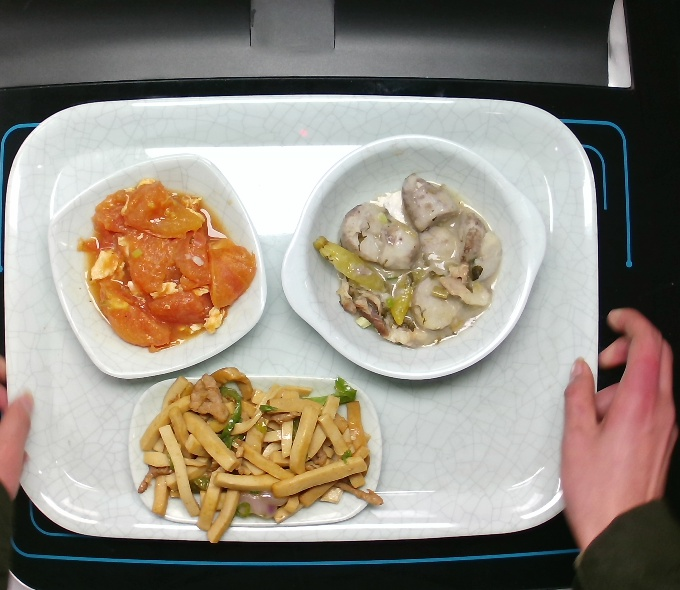wcq-FanQieChaoDan: (63, 174, 260, 362)
wcq-QianYeDouFu: (125, 365, 396, 553)
wcq-YangYu: (304, 167, 508, 351)
